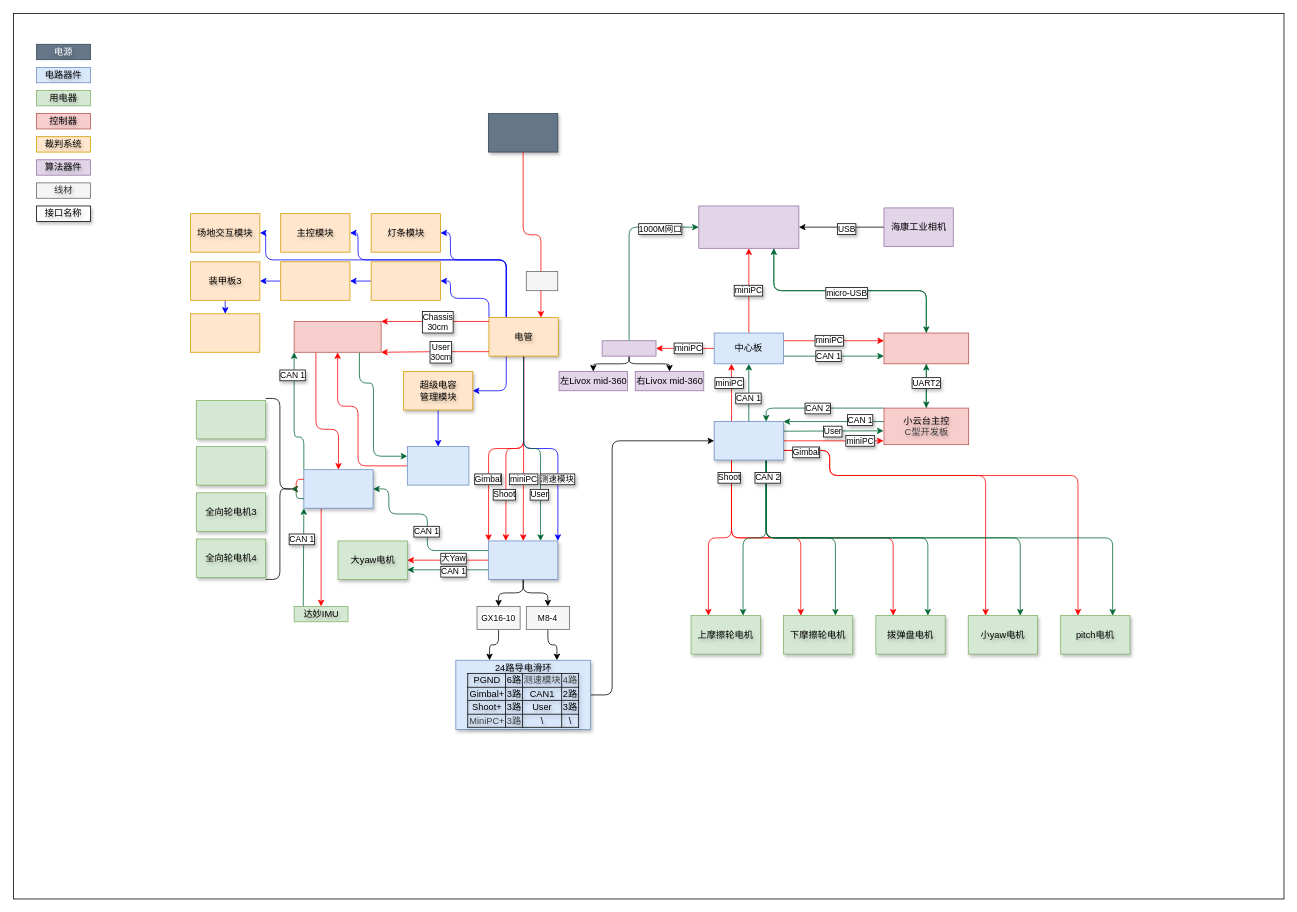
This 1297x912 diagram has some shape labels left out. The shapes that lost their labels are listed below. From the top down, each one's centre as x and y in pixels, then its label:
(523,133): 电池
(748,226): ASUS NUC 14pro
(315,280): 装甲板2
(405,280): 装甲板1
(542,281): XT-60 30cm
(225,332): 装甲板4
(337,336): 超级电容&无线充电 STM32G4控制板
(628,348): 自制交换机
(926,348): 大Yaw&底盘主控 C型开发板
(231,420): 全向轮电机1
(749,441): 分线板
(231,466): 全向轮电机2
(438,465): 电容组1980J 3.0V34F+ 3.0V10F
(339,490): 底盘 中心板
(523,561): 集线板
